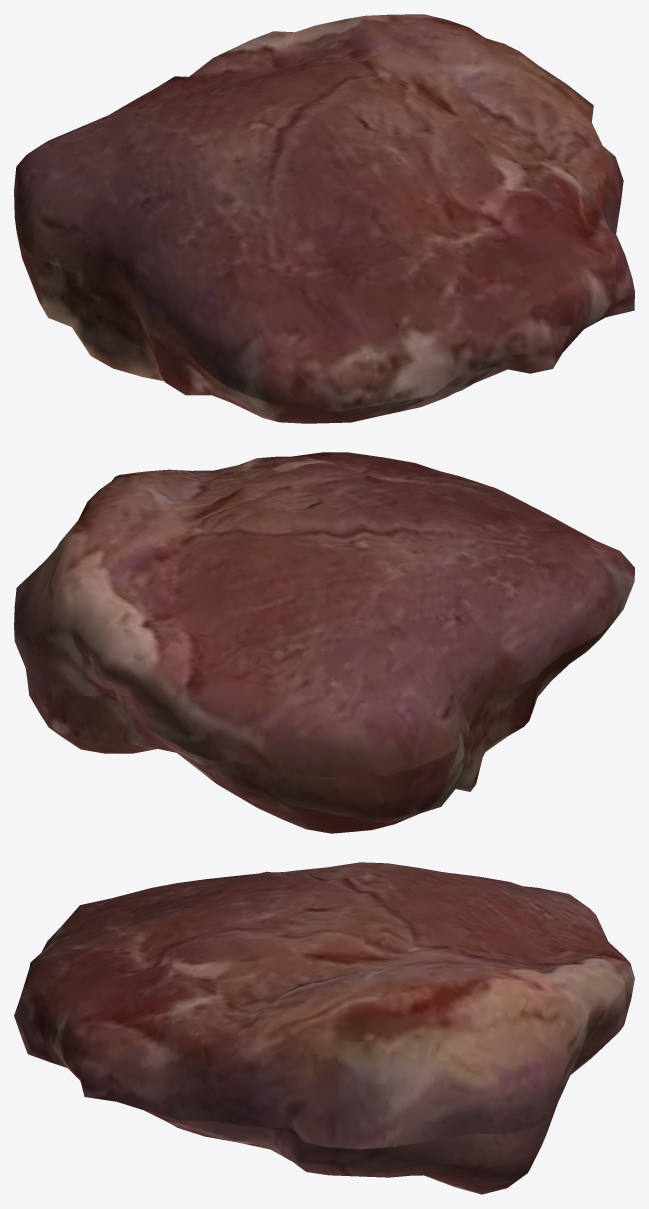
File: bearmeat.oven.glb
3 renders of one model, top to bottom at view 1: azimuth 30°, elevation 25°; view 2: azimuth 150°, elevation 25°; view 3: azimuth 270°, elevation 25°, orthographic. The views are drawn at different scales.
Parts seen in each view (by area): view 1: bearmeat.oven; view 2: bearmeat.oven; view 3: bearmeat.oven.
Part boxes in pixels (<box>): bearmeat.oven: <box>14,14,634,423</box>; bearmeat.oven: <box>14,452,634,833</box>; bearmeat.oven: <box>14,862,634,1194</box>.
Size of the model in its own units: 0.279 by 0.145 by 0.3324.
1 material, 1 textured.
